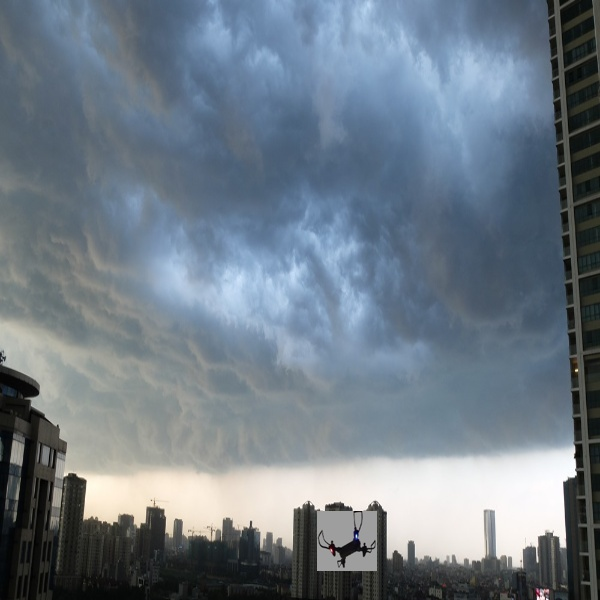drone: (319, 513, 386, 567)
